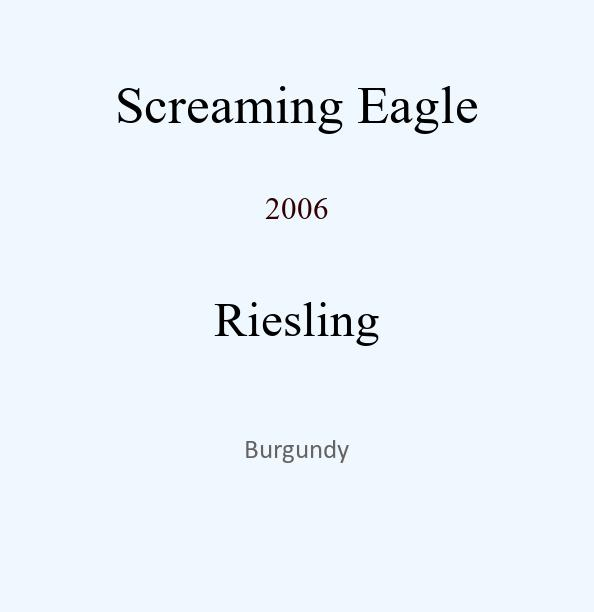brand: (115, 75, 479, 123)
region: (244, 437, 349, 460)
variety: (214, 292, 380, 336)
vintage: (265, 191, 329, 212)
